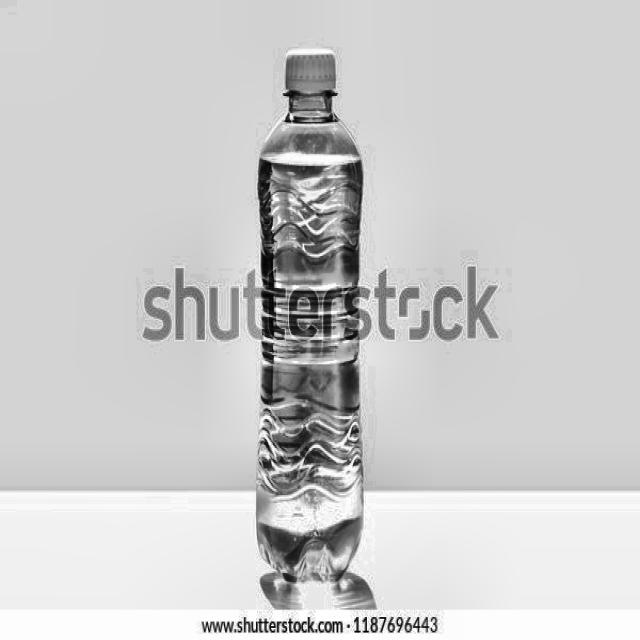waterbottle: (243, 35, 372, 590)
